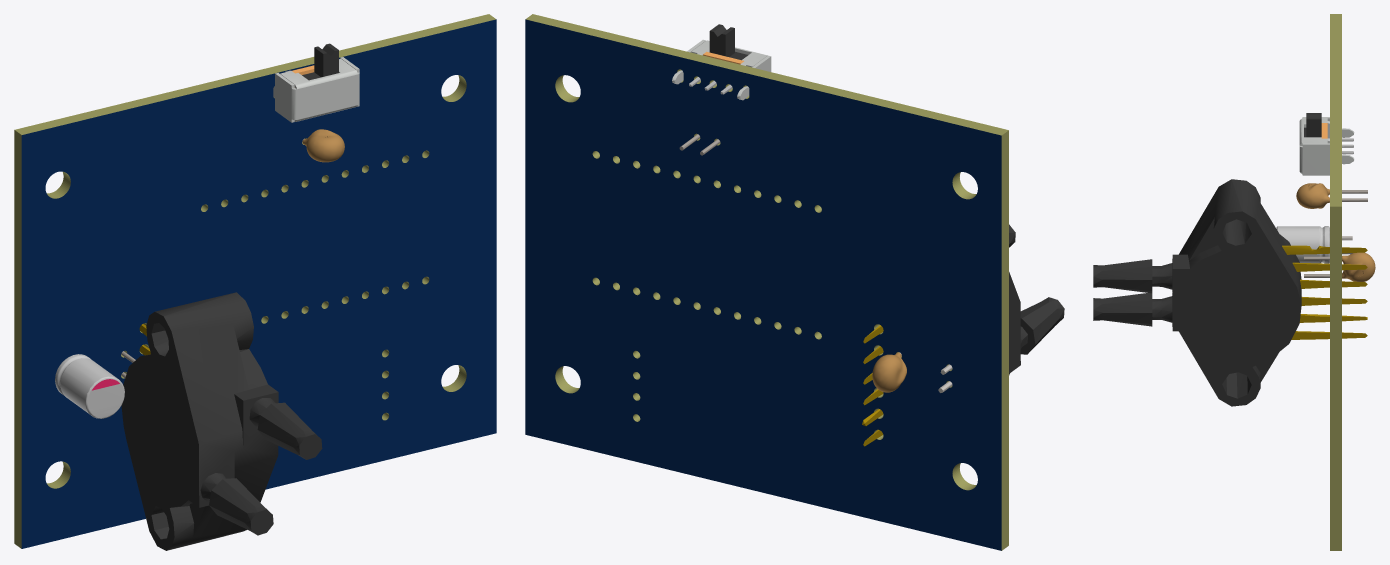
Rendered from 3D_PCB1_2026-06-07.obj.
3 views of the same model, side by side, from view 1: azimuth 30°, elevation 25°; view 2: azimuth 150°, elevation 25°; view 3: azimuth 270°, elevation 25° (orthographic). The views are drawn at different scales.
Size of the model in its own units: 59.97 by 52.55 by 37.1.
